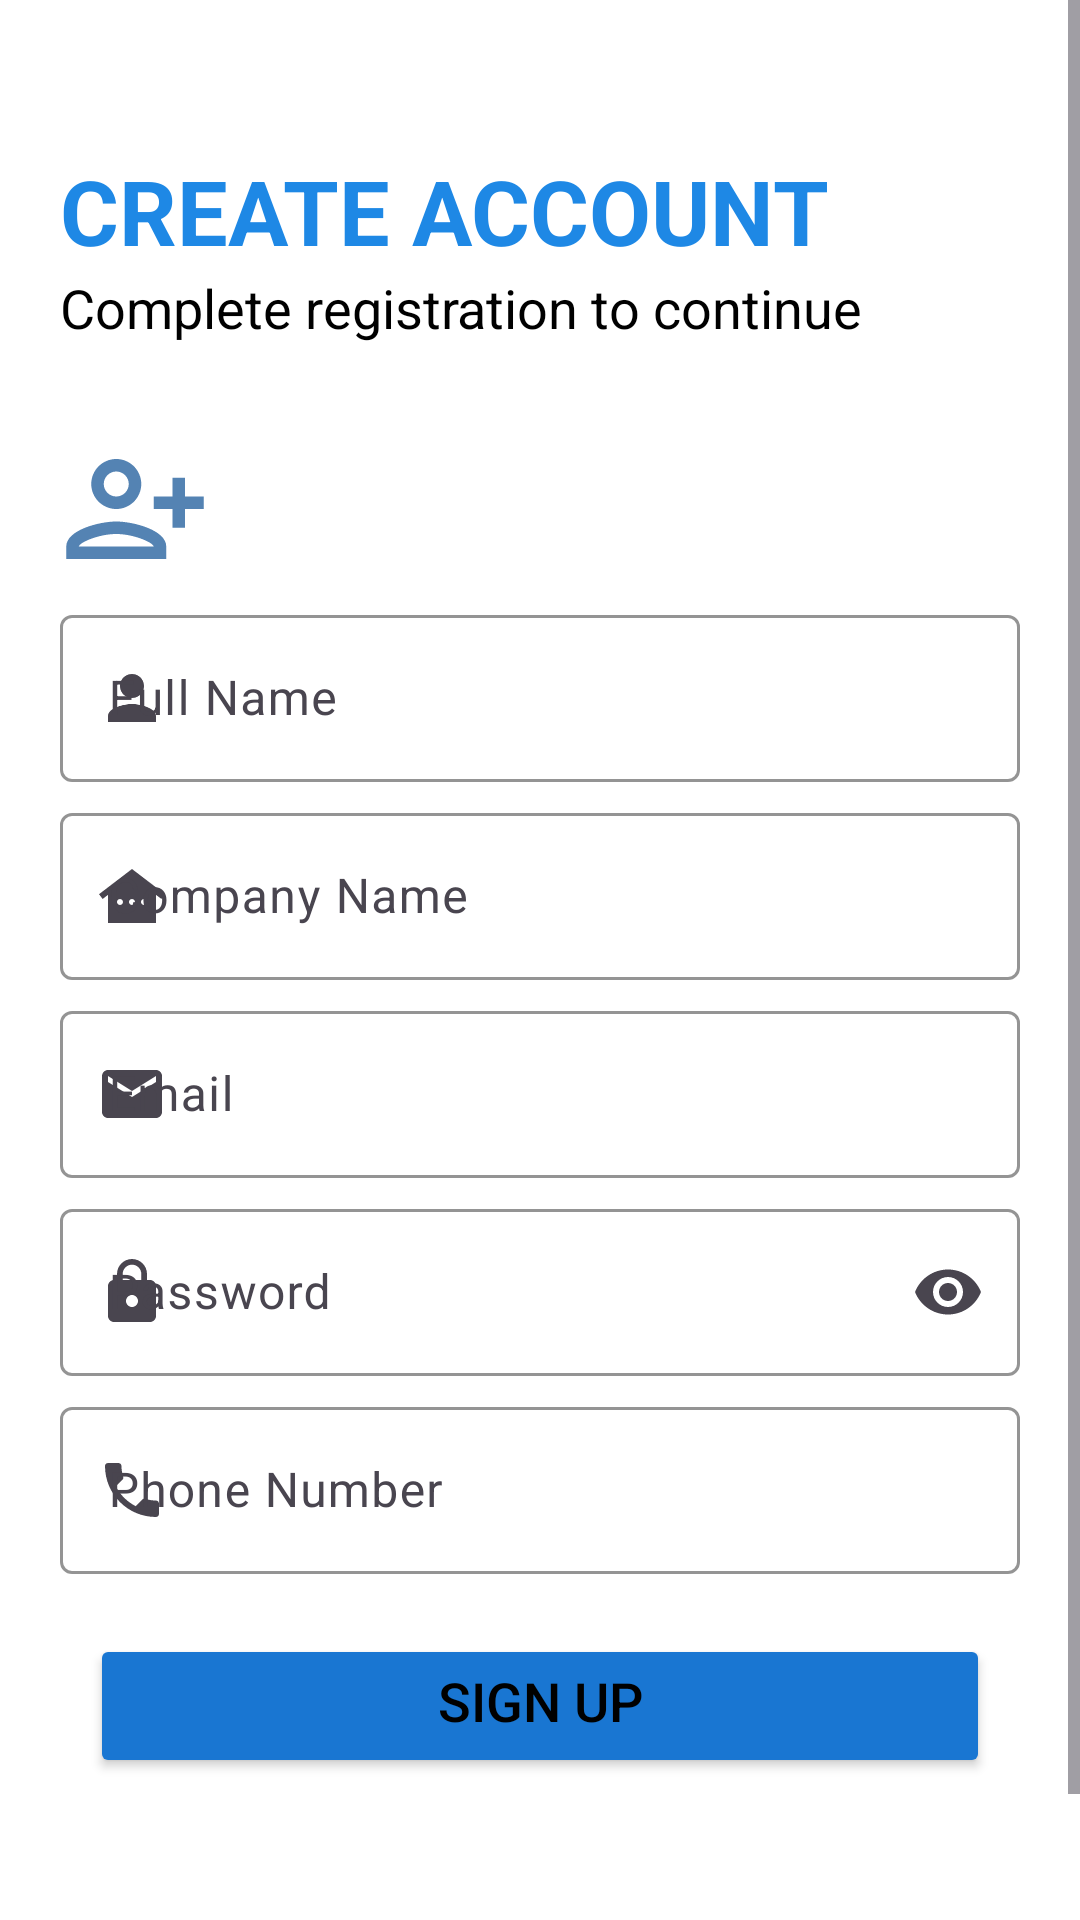

Screen size 1080x1920. Icon name, then its box in pixels as (x1, y1, x2, y2):
createaccount: (66, 459, 204, 559)
